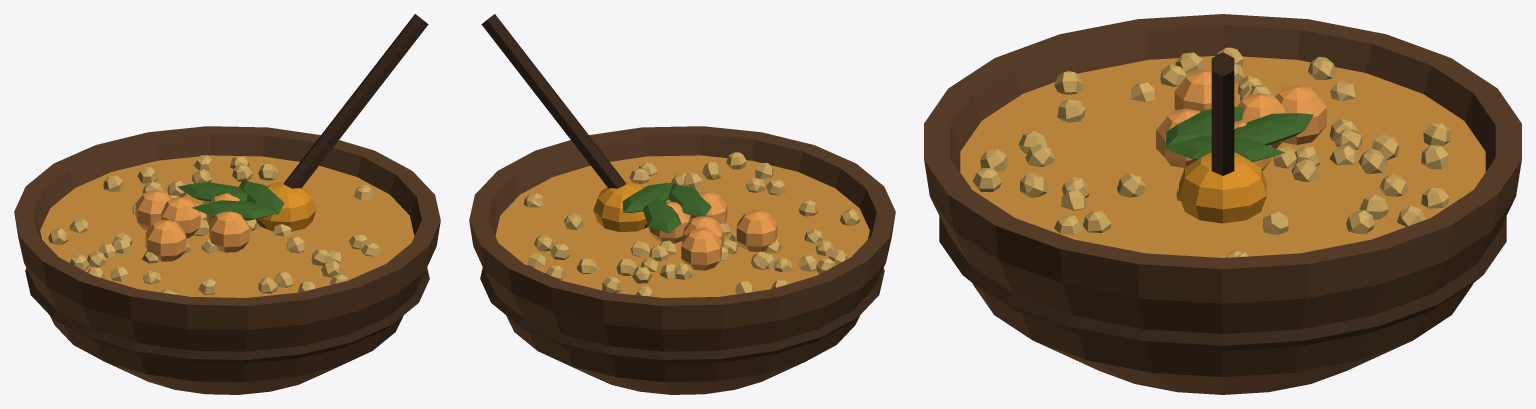
Rendered from VFP_Food_GoldenBarleyPorridge.obj.
The picture shows the model from 3 angles, left to right: view 1: azimuth 30°, elevation 25°; view 2: azimuth 150°, elevation 25°; view 3: azimuth 270°, elevation 25°; orthographic projection. The views are drawn at different scales.
Visible parts, largest first — view 1: Bowl, Fill, Grain, Bowl_wood_dark, Berries, Dipper, Leaves, Dipper_honey; view 2: Bowl, Fill, Grain, Bowl_wood_dark, Berries, Dipper, Leaves, Dipper_honey; view 3: Bowl, Fill, Grain, Bowl_wood_dark, Berries, Dipper_honey, Leaves, Dipper.
Part boxes in pixels (x1,y1,x2,y2): Bowl: (14,126,440,394); Fill: (40,155,414,297); Grain: (48,155,380,294); Bowl_wood_dark: (25,267,429,363); Berries: (135,190,249,261); Dipper: (256,14,428,228); Leaves: (177,180,284,220); Dipper_honey: (257,181,316,231); Bowl: (469,126,895,394); Fill: (495,155,869,297); Grain: (524,152,860,296); Bowl_wood_dark: (480,267,884,363); Berries: (650,191,777,270); Dipper: (481,14,648,228); Leaves: (622,183,711,233); Dipper_honey: (593,181,648,232); Bowl: (924,14,1521,394); Fill: (960,55,1485,257); Grain: (972,47,1450,257); Bowl_wood_dark: (939,216,1506,350); Berries: (1156,69,1326,170); Dipper_honey: (1179,152,1266,223); Leaves: (1162,107,1313,161); Dipper: (1211,52,1234,175).
Bounding box in the file's own units: 0.3396 × 0.241 × 0.323.
